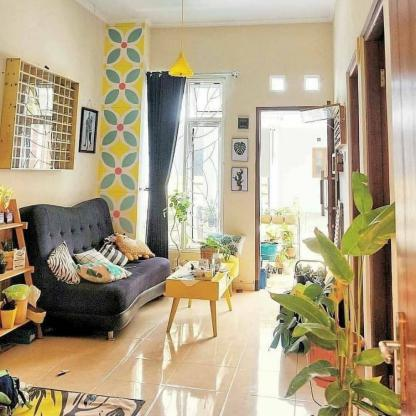bantal: (48, 247, 77, 285), (79, 262, 126, 283), (118, 233, 153, 260)
sova: (21, 201, 169, 336)
tanaman: (298, 199, 373, 416), (165, 254, 233, 339)
